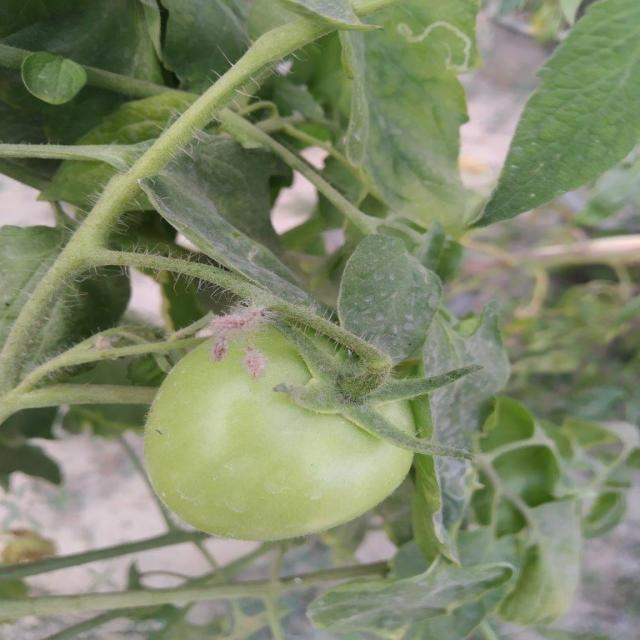Unripe: (144, 325, 414, 540)
